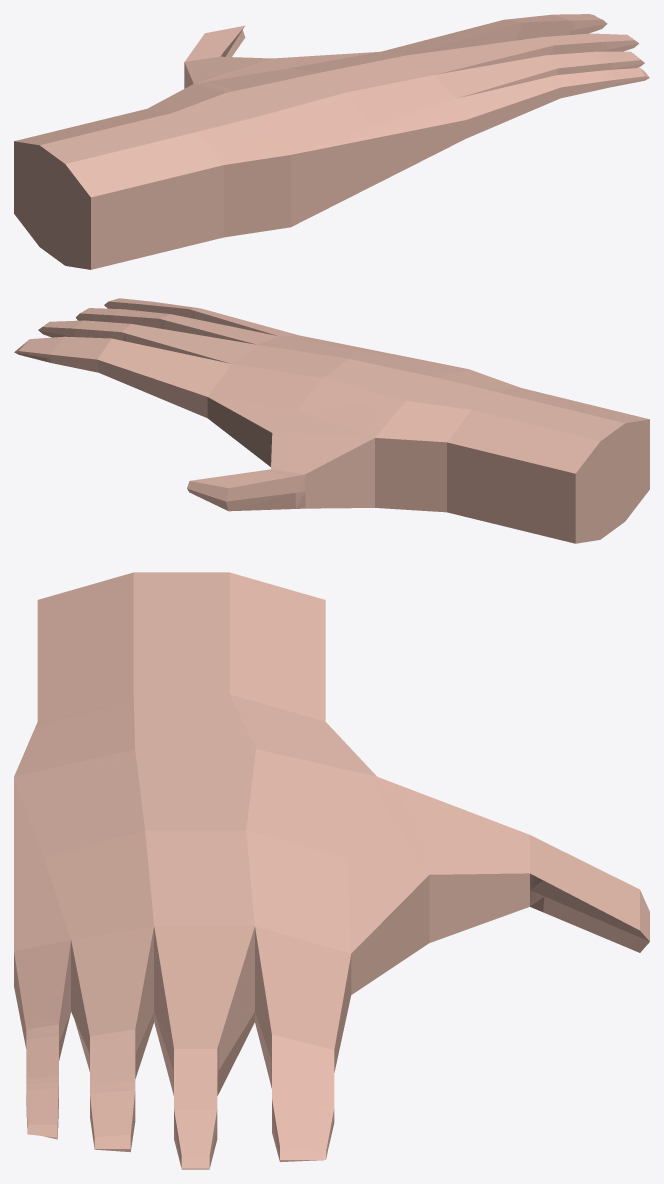
Rendered from righthand.fbx.
The picture shows the model from 3 angles, top to bottom: view 1: azimuth 30°, elevation 25°; view 2: azimuth 150°, elevation 25°; view 3: azimuth 270°, elevation 25°; orthographic projection. The views are drawn at different scales.
Visible parts, largest first — view 1: Cube; view 2: Cube; view 3: Cube.
Boxes of the visible parts, <box> form: Cube: <box>14,14,649,269</box>; Cube: <box>14,298,649,543</box>; Cube: <box>14,572,649,1169</box>.
Bounding box in the file's own units: 881 × 146 × 442.
